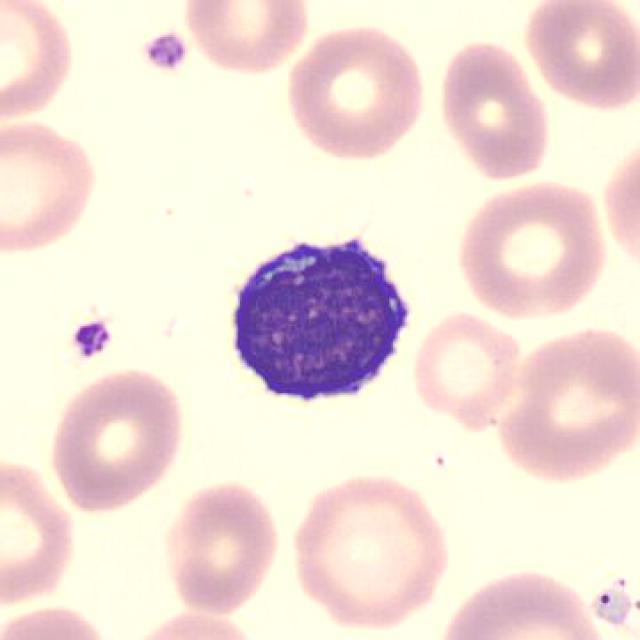Platelets: (139, 28, 192, 78), (68, 317, 114, 363)
RBC: (222, 328, 393, 545), (285, 469, 455, 629), (491, 323, 638, 488), (449, 175, 612, 322), (43, 363, 190, 517), (281, 19, 430, 164), (158, 474, 283, 621), (434, 35, 553, 187), (0, 116, 101, 259), (409, 309, 524, 430), (519, 0, 638, 115), (434, 562, 610, 638), (0, 450, 80, 614), (179, 0, 313, 78), (0, 2, 80, 125), (121, 608, 268, 640), (0, 601, 116, 640)
